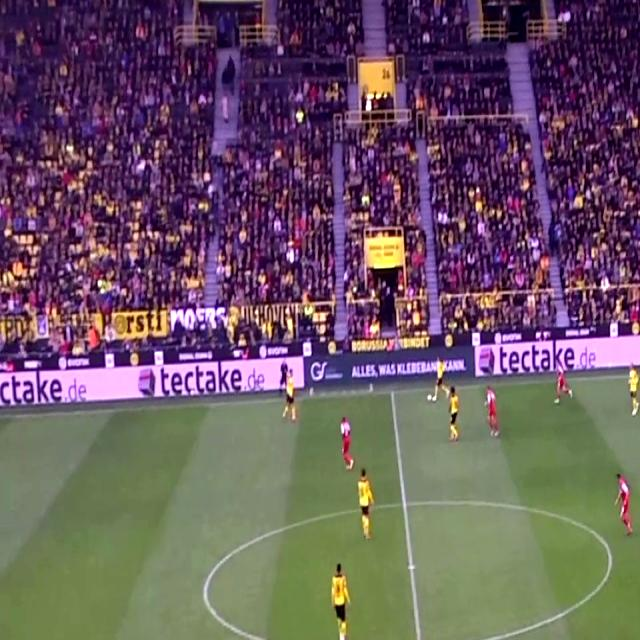referee: (427, 391, 434, 406)
soccer-player: (323, 550, 353, 640), (356, 462, 378, 547), (614, 464, 637, 541), (281, 358, 300, 424), (340, 410, 358, 474), (444, 383, 462, 446), (486, 381, 504, 444), (553, 354, 573, 408), (433, 350, 448, 407), (627, 356, 640, 418)
